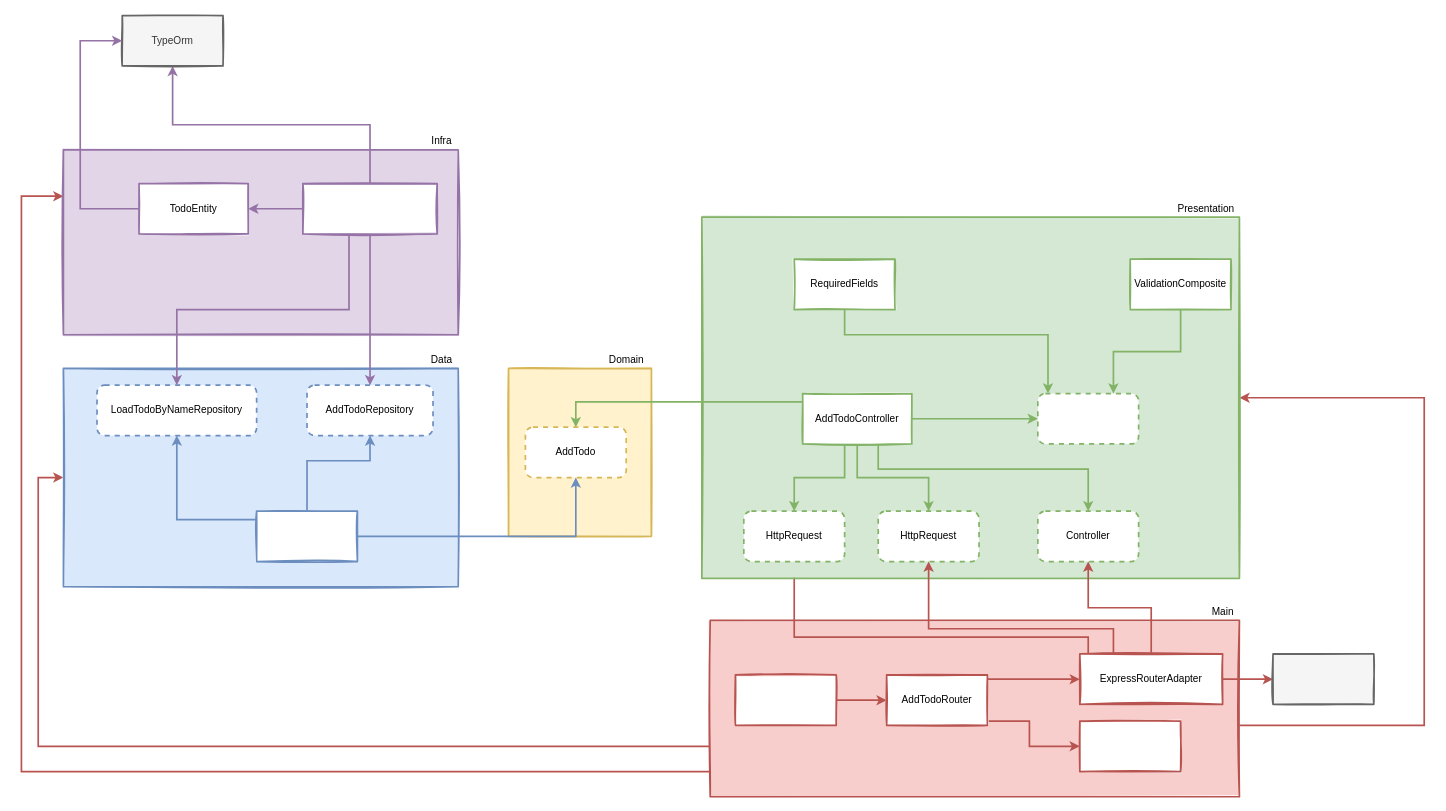
Some shapes in this 1446 by 811 pixel diagram are drawn without their labels. Here are the shapes that lost their labels. From the top down, the centre of each, then its label:
At point (370, 208): "TodoPgRepository".
At point (1088, 418): "Validation".
At point (306, 536): "AddTodoService".
At point (1323, 679): "Express".
At point (785, 700): "App".
At point (1130, 746): "AddTodoFactory".
